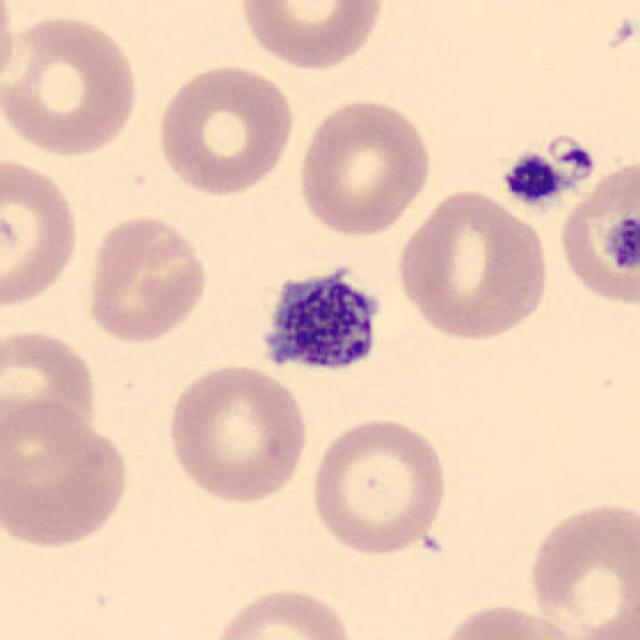Platelets: (249, 256, 389, 384), (502, 150, 564, 208), (602, 215, 640, 276), (550, 138, 598, 185)
RBC: (393, 185, 555, 344), (162, 360, 311, 506), (0, 8, 144, 158), (306, 412, 452, 559), (294, 93, 436, 238), (153, 60, 299, 199), (0, 400, 133, 551), (82, 212, 212, 348), (523, 495, 638, 640), (0, 153, 84, 314), (554, 153, 640, 306), (0, 324, 101, 451), (234, 0, 389, 72), (205, 582, 359, 640), (2, 395, 94, 483), (436, 599, 586, 640), (0, 0, 19, 100)
